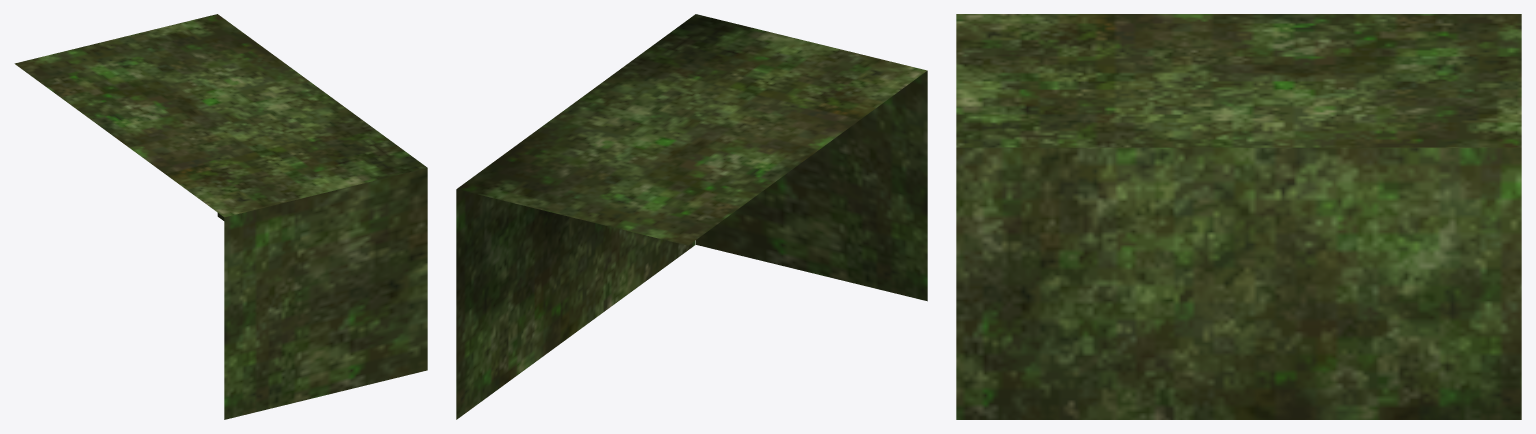
File: OVERHILL_A_01_OBJECT102.fbx
The picture shows the model from 3 angles, left to right: view 1: azimuth 30°, elevation 25°; view 2: azimuth 150°, elevation 25°; view 3: azimuth 270°, elevation 25°; orthographic projection. The views are drawn at different scales.
Visible parts, largest first — view 1: OVERHILL_A_01_OBJECT102; view 2: OVERHILL_A_01_OBJECT102; view 3: OVERHILL_A_01_OBJECT102.
Part boxes in pixels (x1=…): OVERHILL_A_01_OBJECT102: x1=14, y1=14, x2=427, y2=419; OVERHILL_A_01_OBJECT102: x1=456, y1=14, x2=927, y2=419; OVERHILL_A_01_OBJECT102: x1=956, y1=14, x2=1521, y2=419.
Bounding box in the file's own units: 16852 × 16035 × 30148.
1 material, 1 textured.
